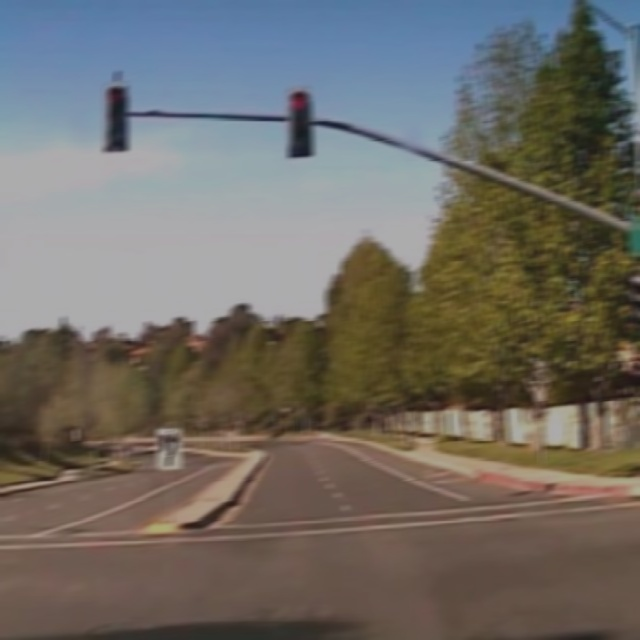keepRight: (156, 426, 182, 471)
